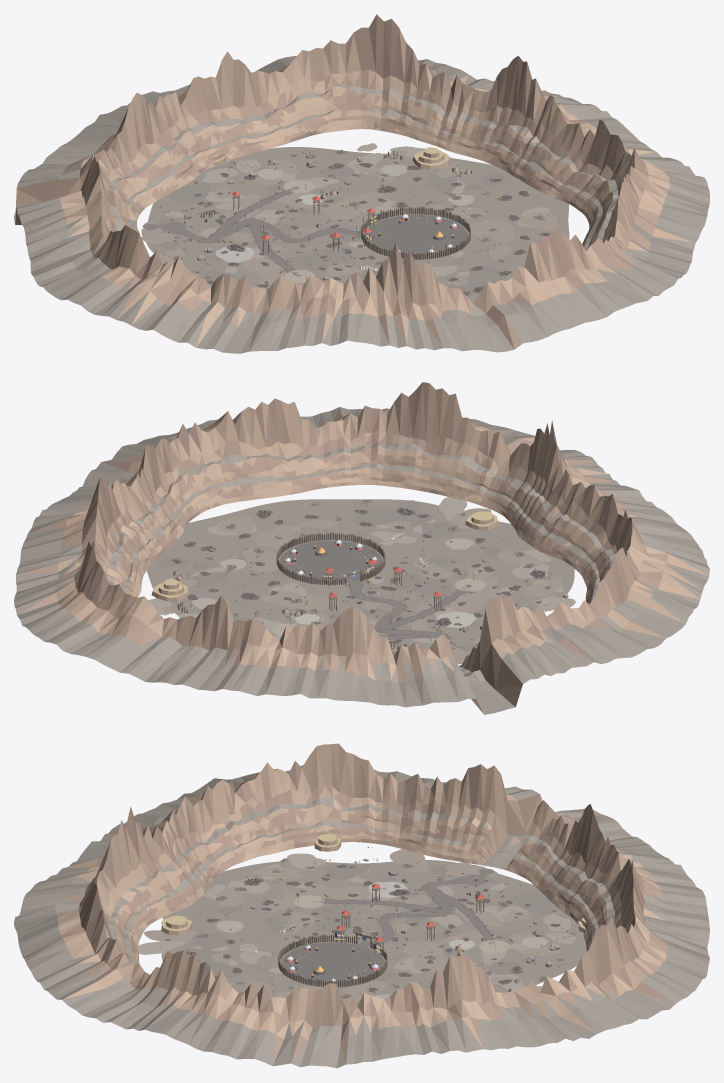
The model's file is map_fort_fire.glb.
3 views of the same model, one above another, from view 1: azimuth 30°, elevation 25°; view 2: azimuth 150°, elevation 25°; view 3: azimuth 270°, elevation 25° (orthographic).
Parts seen in each view (by area): view 1: Z_fort_fire_penhascos, Z_fort_fire_chao_chao, Z_fort_fire_patio, Z_fort_fire_det_chao_-1_1, Z_fort_fire_det_chao_-2_2, Z_fort_fire_det_chao_-1_-3, Z_fort_fire_det_chao_1_-2, Z_fort_fire_det_chao_0_1, Z_fort_fire_estrada_subida, Z_fort_fire_det_chao_-2_0, Z_fort_fire_det_chao_1_1, Z_fort_fire_det_chao_1_0 (+8 smaller); view 2: Z_fort_fire_penhascos, Z_fort_fire_chao_chao, Z_fort_fire_patio, Z_fort_fire_det_chao_1_-2, Z_fort_fire_det_chao_1_0, Z_fort_fire_det_chao_-1_-3, Z_fort_fire_det_chao_0_1, Z_fort_fire_det_chao_2_0, Z_fort_fire_det_chao_0_0, Z_fort_fire_det_chao_-1_-2, Z_fort_fire_det_chao_2_1, Z_fort_fire_det_chao_-2_0 (+6 smaller); view 3: Z_fort_fire_penhascos, Z_fort_fire_chao_chao, Z_fort_fire_patio, Z_fort_fire_det_chao_-1_1, Z_fort_fire_det_chao_1_-2, Z_fort_fire_det_chao_1_0, Z_fort_fire_det_chao_-2_2, Z_fort_fire_det_chao_1_1, Z_fort_fire_det_chao_0_1, Z_fort_fire_det_chao_2_0, Z_fort_fire_det_chao_2_1, Z_fort_fire_estrada_subida (+10 smaller).
Part boxes in pixels (<box>): Z_fort_fire_penhascos: <box>14,14,709,353</box>; Z_fort_fire_chao_chao: <box>146,147,569,303</box>; Z_fort_fire_patio: <box>365,215,467,258</box>; Z_fort_fire_det_chao_-1_1: <box>180,189,360,243</box>; Z_fort_fire_det_chao_-2_2: <box>169,168,245,204</box>; Z_fort_fire_det_chao_-1_-3: <box>485,207,558,243</box>; Z_fort_fire_det_chao_1_-2: <box>428,263,506,296</box>; Z_fort_fire_det_chao_0_1: <box>208,223,296,272</box>; Z_fort_fire_estrada_subida: <box>171,219,384,242</box>; Z_fort_fire_det_chao_-2_0: <box>286,174,384,209</box>; Z_fort_fire_det_chao_1_1: <box>200,258,284,289</box>; Z_fort_fire_det_chao_1_0: <box>258,256,364,285</box>; Z_fort_fire_penhascos: <box>14,382,709,714</box>; Z_fort_fire_chao_chao: <box>146,499,574,655</box>; Z_fort_fire_patio: <box>279,540,382,584</box>; Z_fort_fire_det_chao_1_-2: <box>352,507,468,545</box>; Z_fort_fire_det_chao_1_0: <box>418,564,503,599</box>; Z_fort_fire_det_chao_-1_-3: <box>206,510,301,545</box>; Z_fort_fire_det_chao_0_1: <box>384,589,481,633</box>; Z_fort_fire_det_chao_2_0: <box>497,549,551,578</box>; Z_fort_fire_det_chao_0_0: <box>346,574,436,607</box>; Z_fort_fire_det_chao_-1_-2: <box>238,535,298,572</box>; Z_fort_fire_det_chao_2_1: <box>508,578,575,611</box>; Z_fort_fire_det_chao_-2_0: <box>253,590,320,631</box>; Z_fort_fire_penhascos: <box>14,743,709,1068</box>; Z_fort_fire_chao_chao: <box>161,860,586,1005</box>; Z_fort_fire_patio: <box>281,942,384,986</box>; Z_fort_fire_det_chao_-1_1: <box>358,879,502,947</box>; Z_fort_fire_det_chao_1_-2: <box>184,930,272,977</box>; Z_fort_fire_det_chao_1_0: <box>261,884,354,929</box>; Z_fort_fire_det_chao_-2_2: <box>494,893,570,931</box>; Z_fort_fire_det_chao_1_1: <box>289,864,372,901</box>; Z_fort_fire_det_chao_0_1: <box>324,877,443,912</box>; Z_fort_fire_det_chao_2_0: <box>203,877,269,906</box>; Z_fort_fire_det_chao_2_1: <box>252,853,325,886</box>; Z_fort_fire_estrada_subida: <box>354,878,473,952</box>.
Bounding box in the file's own units: 365 × 57.33 × 361.
